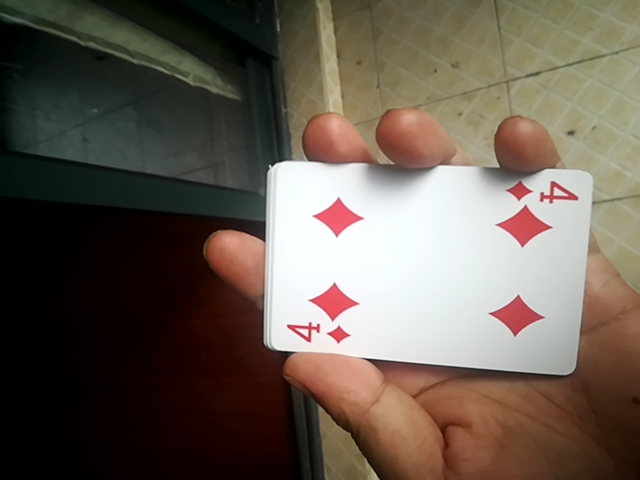fk 4: (261, 152, 606, 383)
